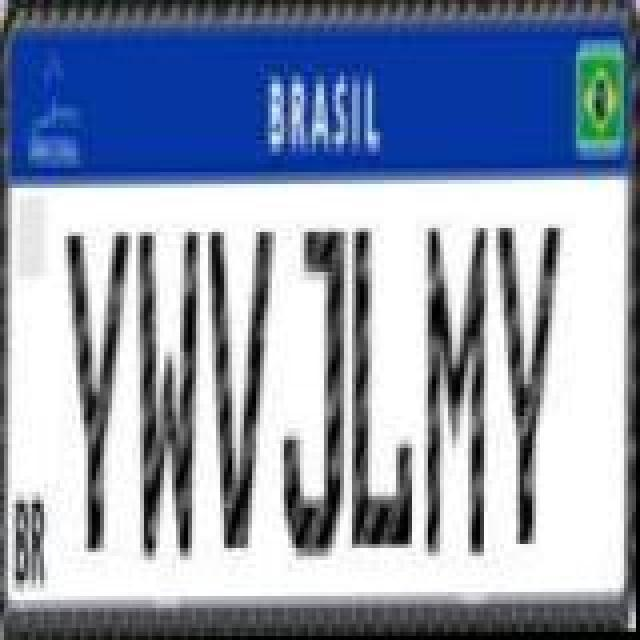J: (282, 226, 346, 566)
L: (350, 222, 414, 554)
M: (426, 224, 490, 564)
V: (208, 230, 276, 558)
W: (134, 230, 198, 566)
Y: (64, 226, 132, 554), (494, 222, 558, 550)
